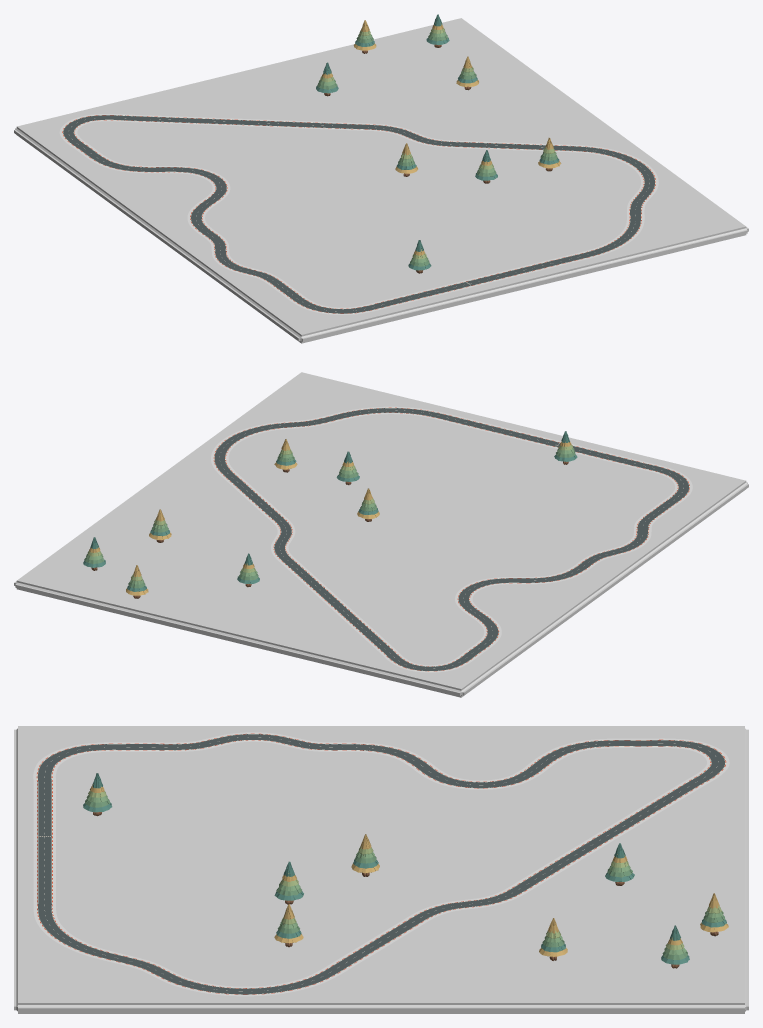
The model's file is arrowhead.glb.
3 views of the same model, one above another, from view 1: azimuth 30°, elevation 25°; view 2: azimuth 150°, elevation 25°; view 3: azimuth 270°, elevation 25° (orthographic). The views are drawn at different scales.
Parts seen in each view (by area): view 1: arrowhead diorama island, track_arrowhead_Fine asphalt.preview, track_arrowhead_Gravel shoulder.preview, track_arrowhead_Warm ivory.preview, track_arrowhead_Signal vermilion.preview; view 2: arrowhead diorama island, track_arrowhead_Fine asphalt.preview, track_arrowhead_Gravel shoulder.preview, track_arrowhead_Warm ivory.preview, track_arrowhead_Signal vermilion.preview; view 3: arrowhead diorama island, track_arrowhead_Fine asphalt.preview, track_arrowhead_Gravel shoulder.preview, track_arrowhead_Warm ivory.preview, track_arrowhead_Signal vermilion.preview.
Boxes of the visible parts, box(x1,y1,x2,y2) form: arrowhead diorama island: box(14, 18, 748, 343); track_arrowhead_Fine asphalt.preview: box(63, 115, 655, 313); track_arrowhead_Gravel shoulder.preview: box(59, 114, 658, 314); track_arrowhead_Warm ivory.preview: box(62, 115, 655, 313); track_arrowhead_Signal vermilion.preview: box(62, 115, 655, 313); arrowhead diorama island: box(14, 372, 748, 697); track_arrowhead_Fine asphalt.preview: box(214, 408, 689, 671); track_arrowhead_Gravel shoulder.preview: box(211, 406, 692, 672); track_arrowhead_Warm ivory.preview: box(213, 407, 689, 671); track_arrowhead_Signal vermilion.preview: box(213, 407, 689, 671); arrowhead diorama island: box(14, 726, 748, 1013); track_arrowhead_Fine asphalt.preview: box(37, 734, 725, 994); track_arrowhead_Gravel shoulder.preview: box(33, 732, 729, 996); track_arrowhead_Warm ivory.preview: box(36, 733, 726, 994); track_arrowhead_Signal vermilion.preview: box(36, 733, 726, 994).
Bounding box in the file's own units: 651 × 61.61 × 721.
